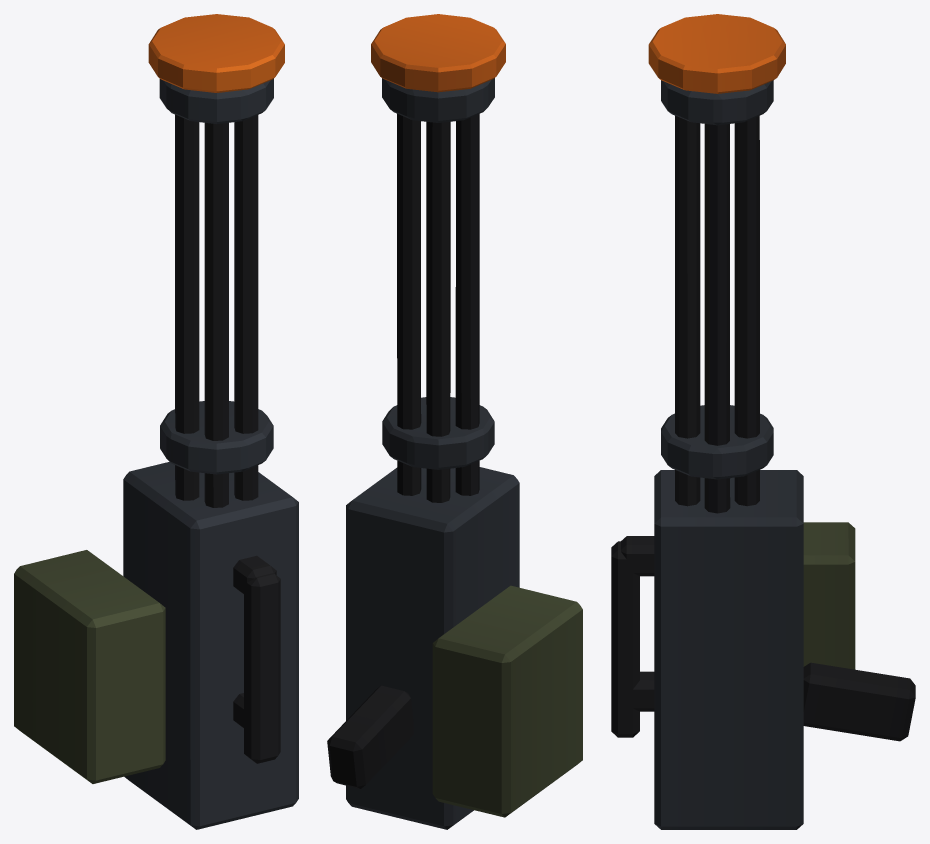
The model's file is shredder.glb.
3 views of the same model, side by side, from view 1: azimuth 30°, elevation 25°; view 2: azimuth 150°, elevation 25°; view 3: azimuth 270°, elevation 25° (orthographic). The views are drawn at different scales.
Visible parts, largest first — view 1: shredder; view 2: shredder; view 3: shredder.
Boxes of the visible parts, bbox=[...] form: shredder: bbox=[14, 14, 298, 829]; shredder: bbox=[327, 14, 582, 829]; shredder: bbox=[611, 14, 915, 829].
Bounding box in the file's own units: 0.1996 × 0.734 × 0.265.
